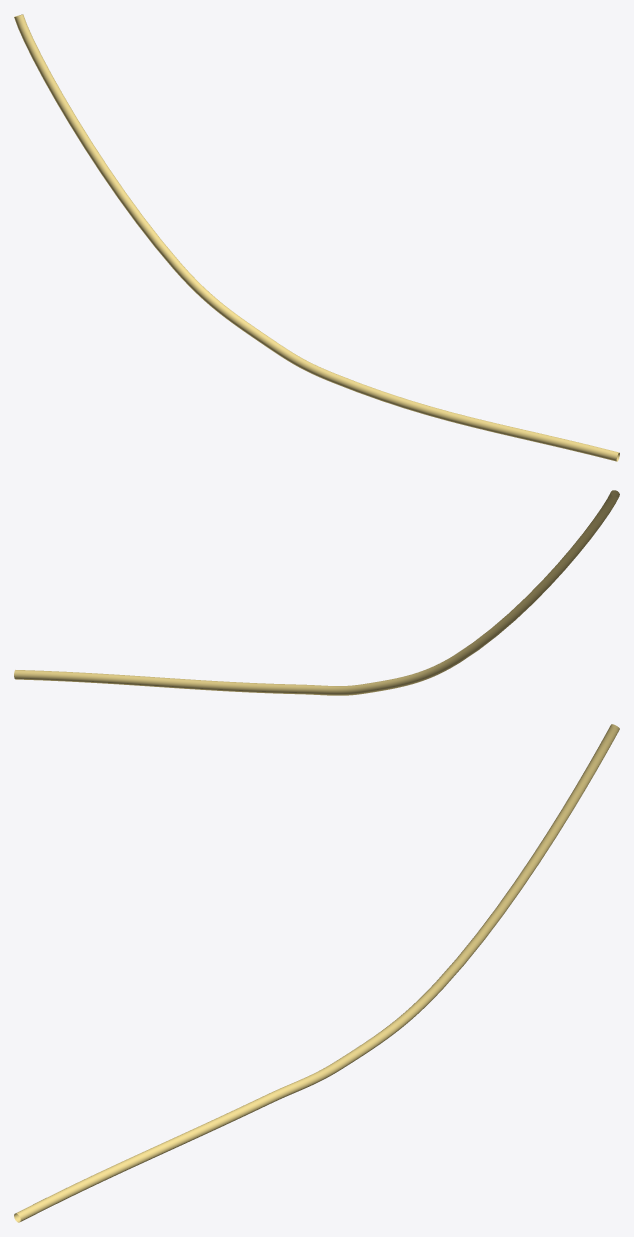
The picture shows the model from 3 angles, top to bottom: view 1: azimuth 30°, elevation 25°; view 2: azimuth 210°, elevation 25°; view 3: azimuth 270°, elevation 25°; orthographic projection. The views are drawn at different scales.
Visible parts, largest first — view 1: ZA_5b6a9f0c696abf8c; view 2: ZA_5b6a9f0c696abf8c; view 3: ZA_5b6a9f0c696abf8c.
Part boxes in pixels (bbox=[...]): ZA_5b6a9f0c696abf8c: bbox=[14, 14, 619, 461]; ZA_5b6a9f0c696abf8c: bbox=[14, 490, 619, 695]; ZA_5b6a9f0c696abf8c: bbox=[14, 724, 619, 1222].
Bounding box in the file's own units: 0.0384 × 0.036 × 0.059.
